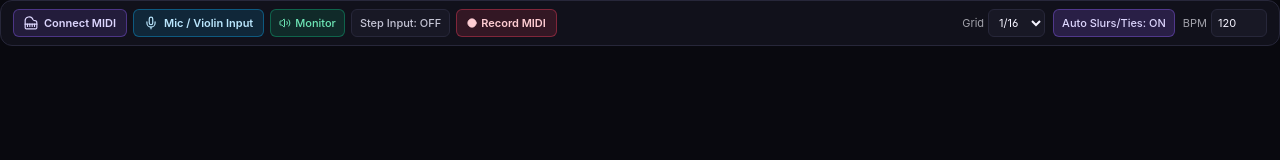
Violin Live Mic Tracker, UI Integration, & Transcription Preset › handles permission denied, missing device, and unsupported browser errors in NotationMidiBar
What coordinates should you click on to do the following:
click the button with test id "notation-mic-input-btn"
I would click on:
 (199, 23)
Its box is [133,9,264,37].
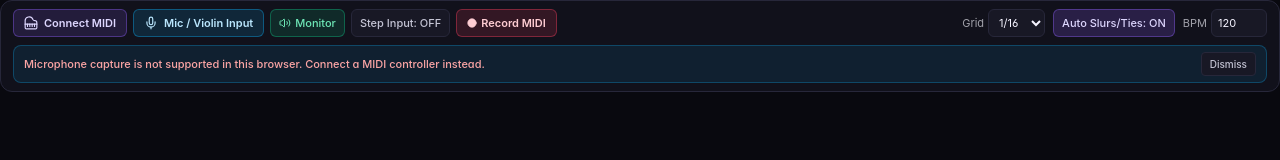
Result: the text with test id "notation-mic-error" shows "not supported" at [24,57,485,71]
What coordinates should you click on to do the following:
click the button with test id "notation-mic-input-btn"
I would click on:
 (199, 23)
Its box is [133,9,264,37].
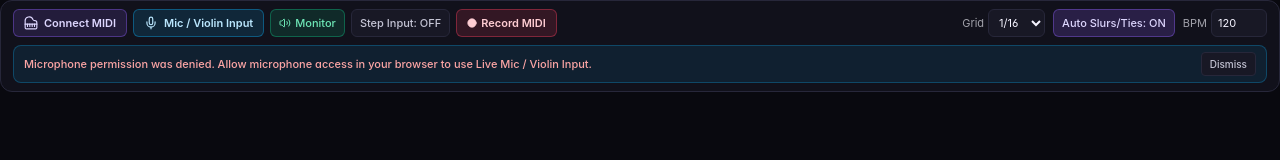
Result: the text with test id "notation-mic-error" shows "permission was denied" at [24,57,592,71]
What coordinates should you click on to do the following:
click the button with test id "notation-mic-input-btn"
I would click on:
 (199, 23)
Its box is [133,9,264,37].
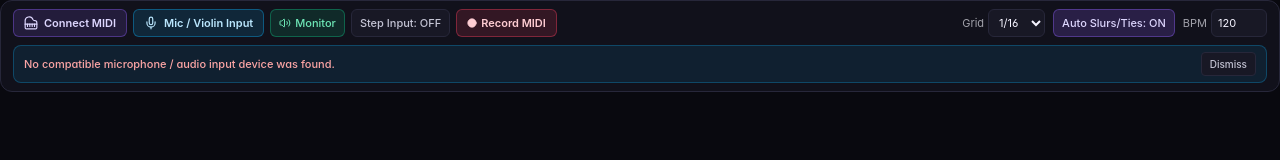
Result: the text with test id "notation-mic-error" shows "No compatible microphone" at [24,57,335,71]
